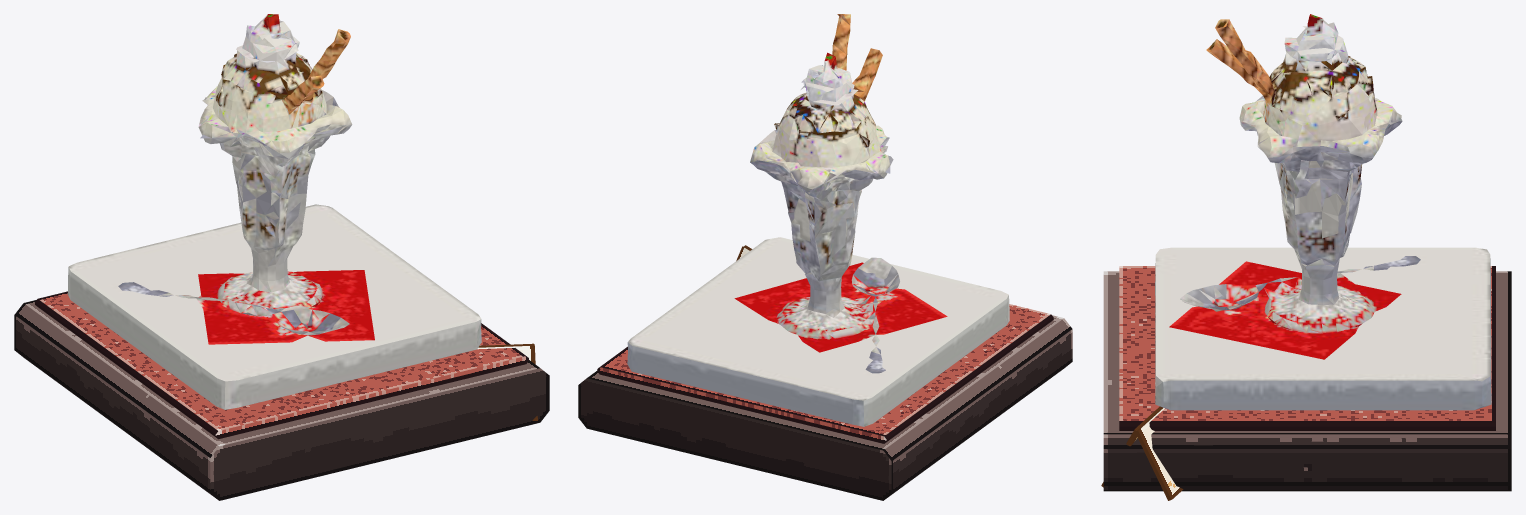
The model's file is sundae.glb.
The picture shows the model from 3 angles, left to right: view 1: azimuth 30°, elevation 25°; view 2: azimuth 150°, elevation 25°; view 3: azimuth 270°, elevation 25°; orthographic projection. The views are drawn at different scales.
Parts seen in each view (by area): view 1: model_parfait, base, felt; view 2: model_parfait, base, felt; view 3: model_parfait, base, felt, card0.
Boxes of the visible parts, x1,y1,x2,y2 form: model_parfait: (67,14,481,409); base: (14,300,549,500); felt: (35,291,528,439); model_parfait: (627,14,1009,426); base: (578,315,1072,500); felt: (597,304,1053,443); model_parfait: (1155,14,1491,410); base: (1103,271,1511,491); felt: (1119,266,1495,430); card0: (1135,407,1183,500).
Size of the model in its own units: 27.12 by 28.14 by 26.15.
2 materials, 2 textured.
